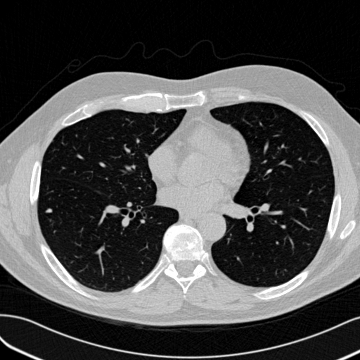nodule: (46, 208, 52, 214)
